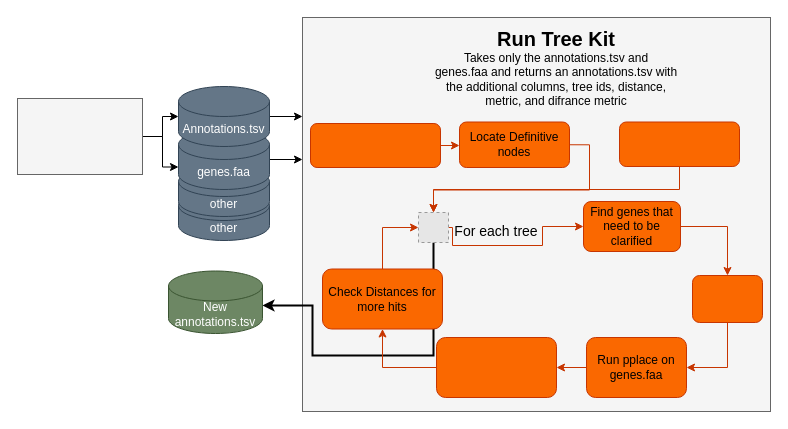
This 788x429 diagram has some shape labels left out. Grey dashed boxes stand in for pictures. Here are the shapes that lost their labels. From the top down, the centre of each, then its label:
At [79,136]: "Run DRAM with no additional arguments".
At [375,145]: "Read in trees, (hard codes for now)".
At [679,143]: "Read in annotations.tsv".
At [727,298]: "Filter genes.faa".
At [496,367]: "Deturmine definitve gene landings".
